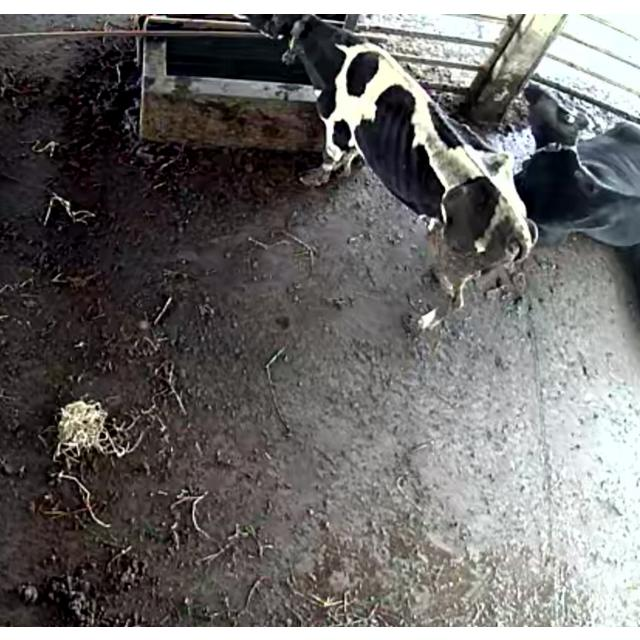drink: (246, 13, 366, 92)
